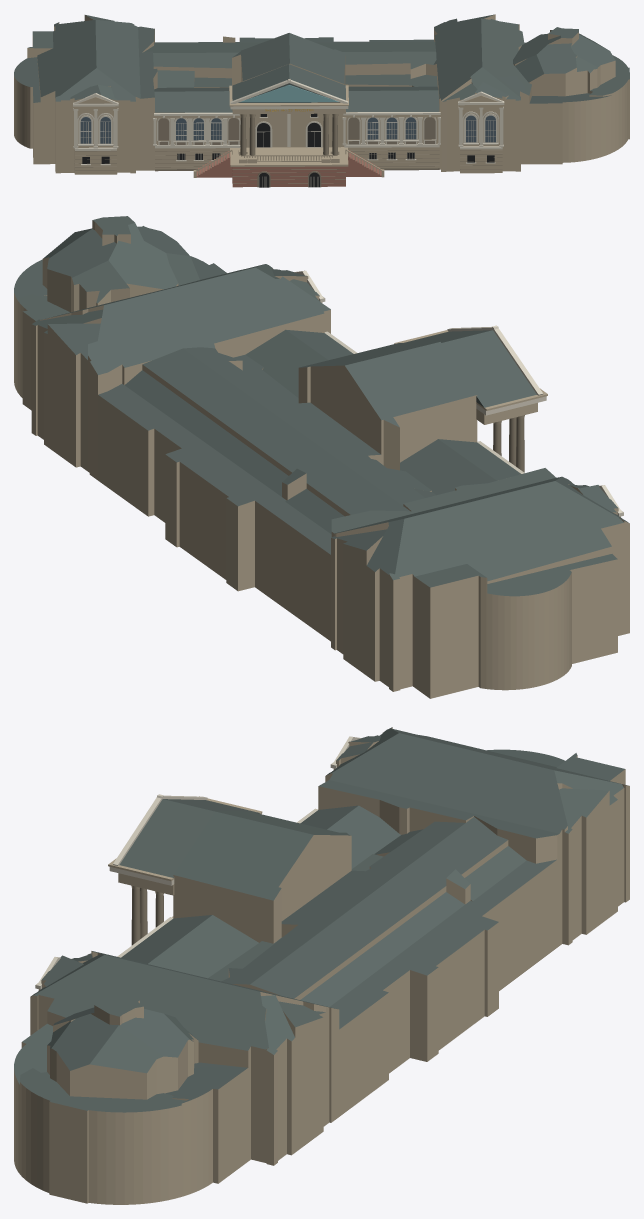
The model's file is artis-aquarium.glb.
The picture shows the model from 3 angles, top to bottom: view 1: azimuth 30°, elevation 25°; view 2: azimuth 150°, elevation 25°; view 3: azimuth 270°, elevation 25°; orthographic projection. The views are drawn at different scales.
Visible parts, largest first — view 1: artis-aquarium; view 2: artis-aquarium; view 3: artis-aquarium.
Part boxes in pixels (box(x1,y1,x2,y2)): artis-aquarium: box(14, 14, 629, 187); artis-aquarium: box(14, 216, 629, 698); artis-aquarium: box(14, 727, 629, 1204).
Bounding box in the file's own units: 80.15 × 17.01 × 56.53.
